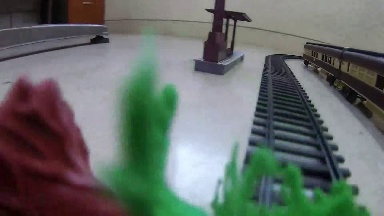tree: (3, 65, 366, 216)
